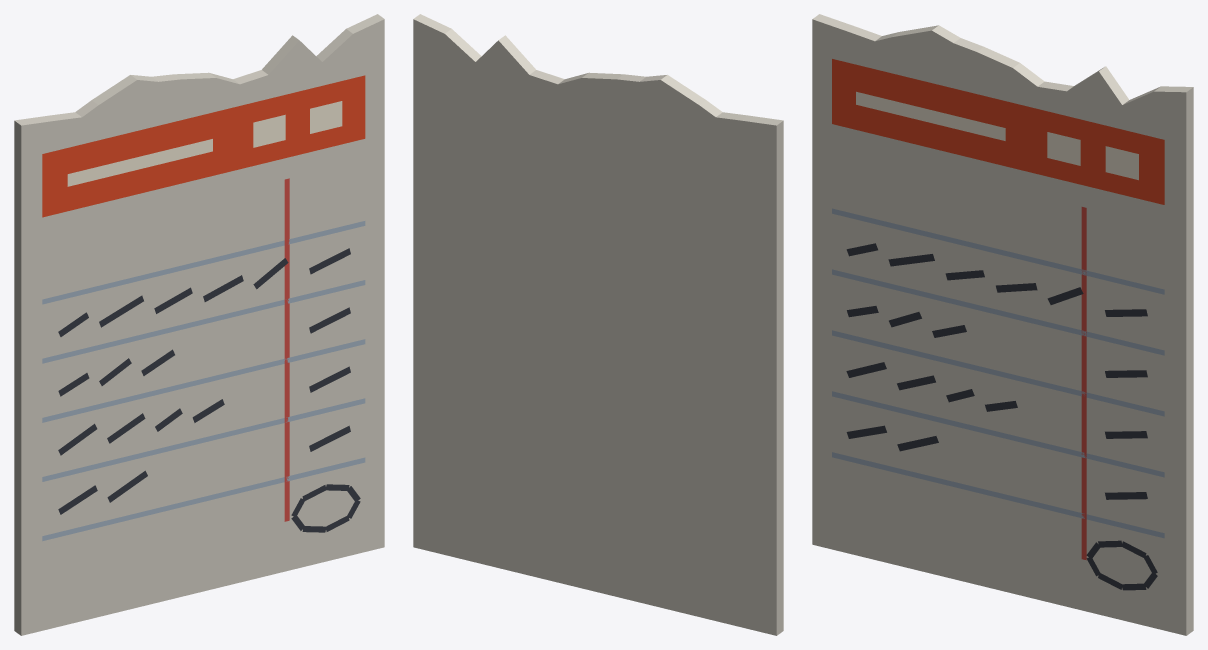
File: Prop_OrderSlip.fbx
3 renders of one model, left to right at view 1: azimuth 30°, elevation 25°; view 2: azimuth 150°, elevation 25°; view 3: azimuth 330°, elevation 25°, orthographic. The views are drawn at different scales.
Parts seen in each view (by area): view 1: Paper, Header, Lines, Pencil, HeaderPrint, Rule; view 2: Paper; view 3: Paper, Header, Lines, Pencil, HeaderPrint, Rule.
Boxes of the visible parts, x1,y1,x2,y2 form: Paper: (14,14,384,635); Header: (42,75,365,217); Lines: (42,221,365,541); Pencil: (58,248,360,532); HeaderPrint: (67,101,342,186); Rule: (284,178,289,521); Paper: (413,14,783,635); Paper: (812,14,1193,635); Header: (832,59,1164,204); Lines: (832,208,1164,538); Pencil: (846,243,1157,590); HeaderPrint: (856,91,1138,180); Rule: (1081,207,1086,560).
Size of the model in its own units: 90 by 125 by 3.8.
